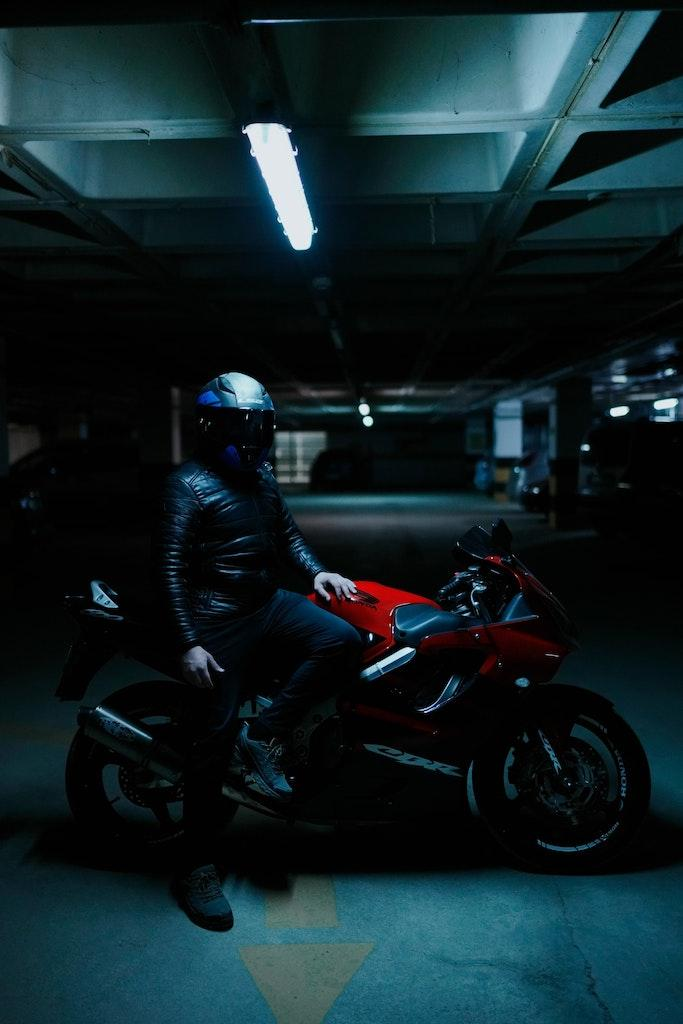helmet: (192, 370, 278, 480)
